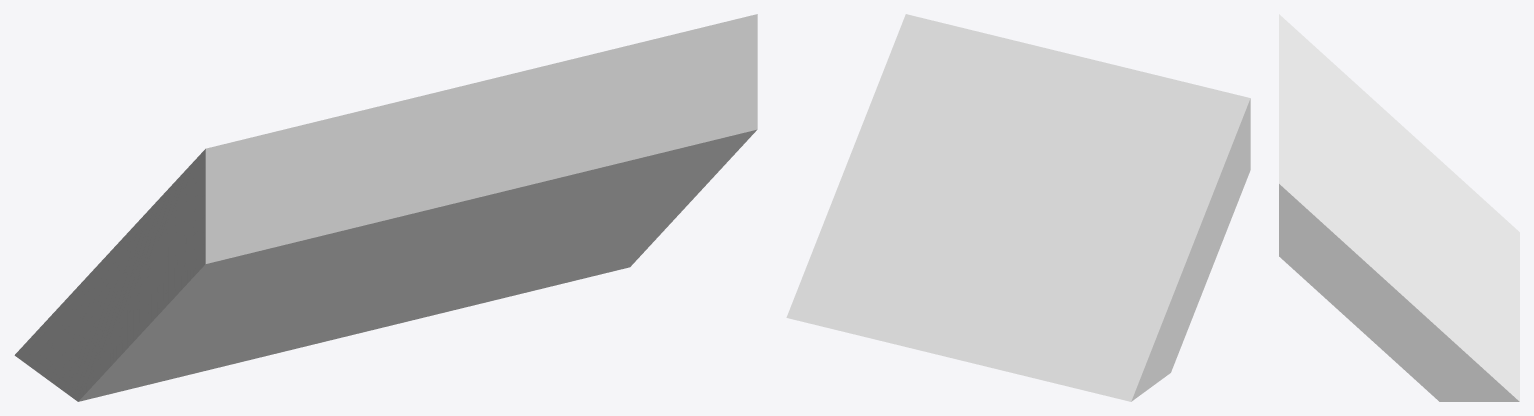
The model's file is BaoPian_FG_JZ_ZhuanJiao_1X1_off.FBX.
The picture shows the model from 3 angles, left to right: view 1: azimuth 30°, elevation 25°; view 2: azimuth 150°, elevation 25°; view 3: azimuth 270°, elevation 25°; orthographic projection. The views are drawn at different scales.
Visible parts, largest first — view 1: Box002; view 2: Box002; view 3: Box002.
Boxes of the visible parts, x1,y1,x2,y2 form: Box002: (14,14,757,401); Box002: (786,14,1250,401); Box002: (1279,14,1519,401).
Size of the model in its own units: 1 by 0.6 by 0.6.
